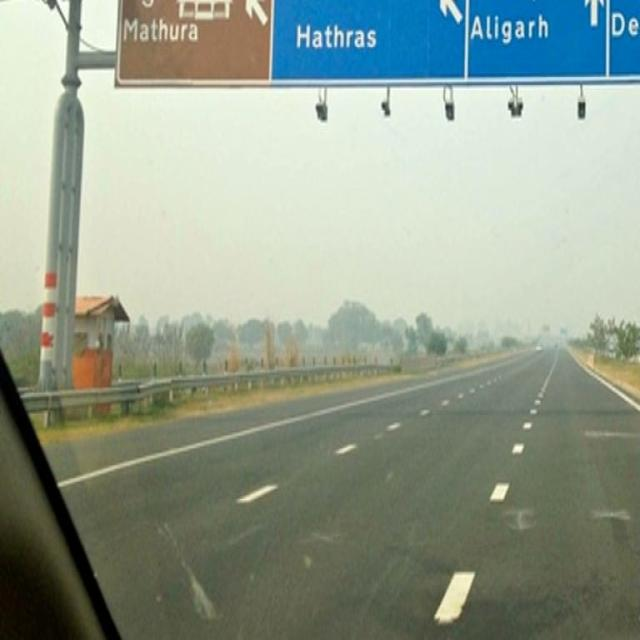Clean road: (102, 364, 639, 640)
